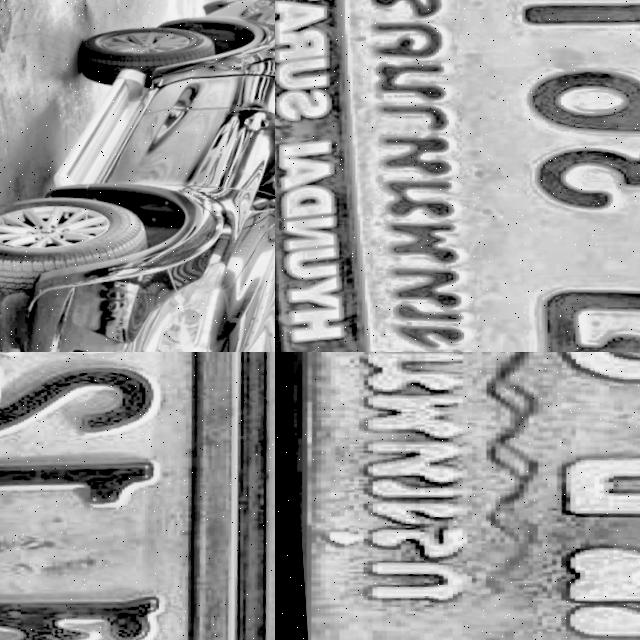license-plate: (275, 0, 640, 352), (275, 352, 640, 640), (0, 352, 274, 640)
